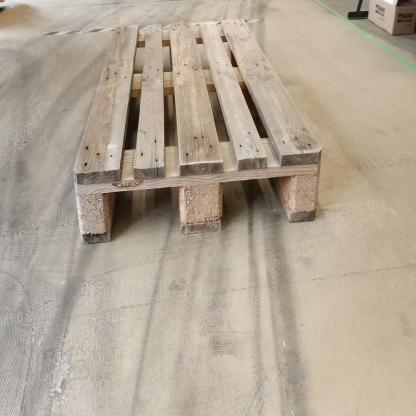BoxFace: (70, 12, 326, 250)
